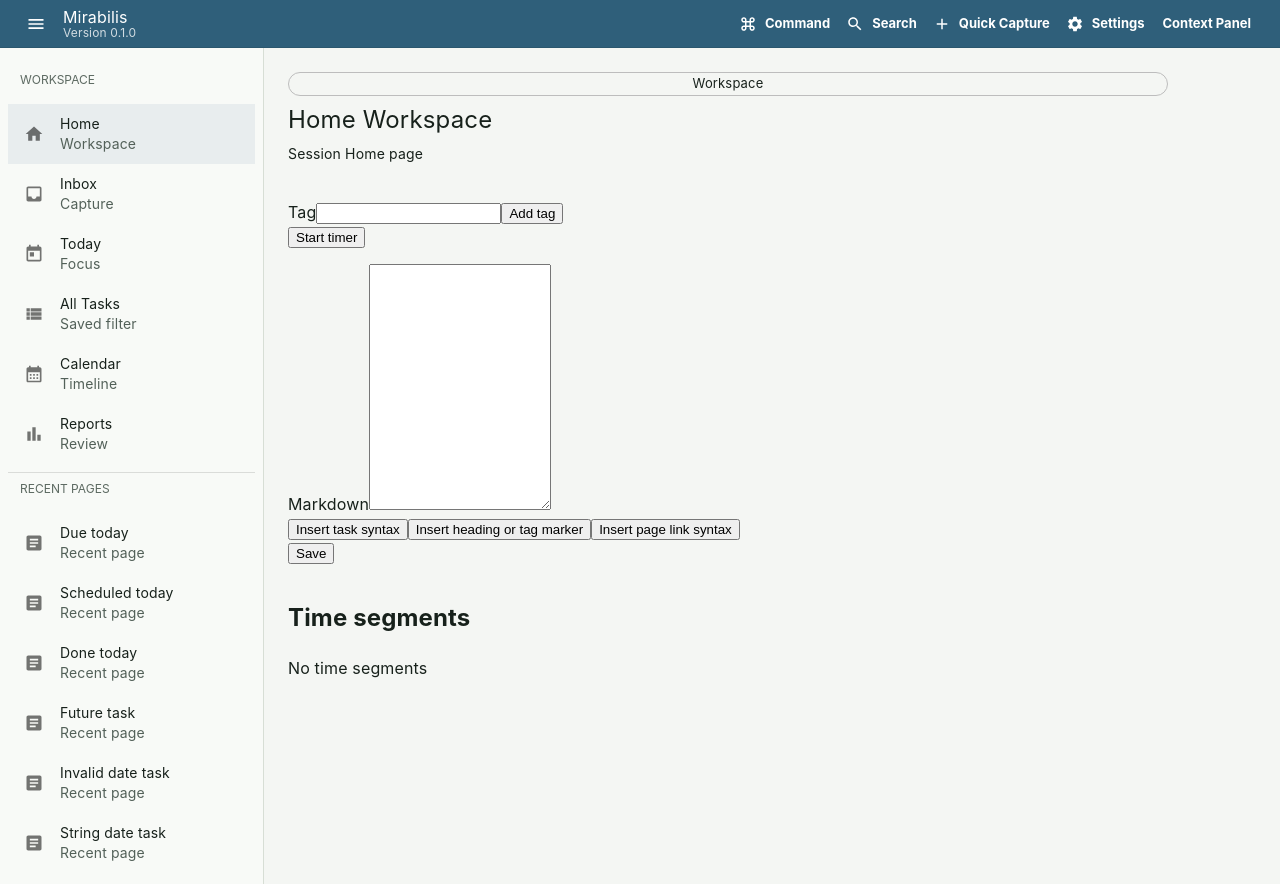
Test: TASK-038 sidebar page and saved-filter navigation › routes Today using the deterministic current date and only unfinished due or scheduled task pages
The width and height of the screenshot is (1280, 884).
Click the button "Today Focus". click: (63, 254)
box: [24, 235, 101, 272]
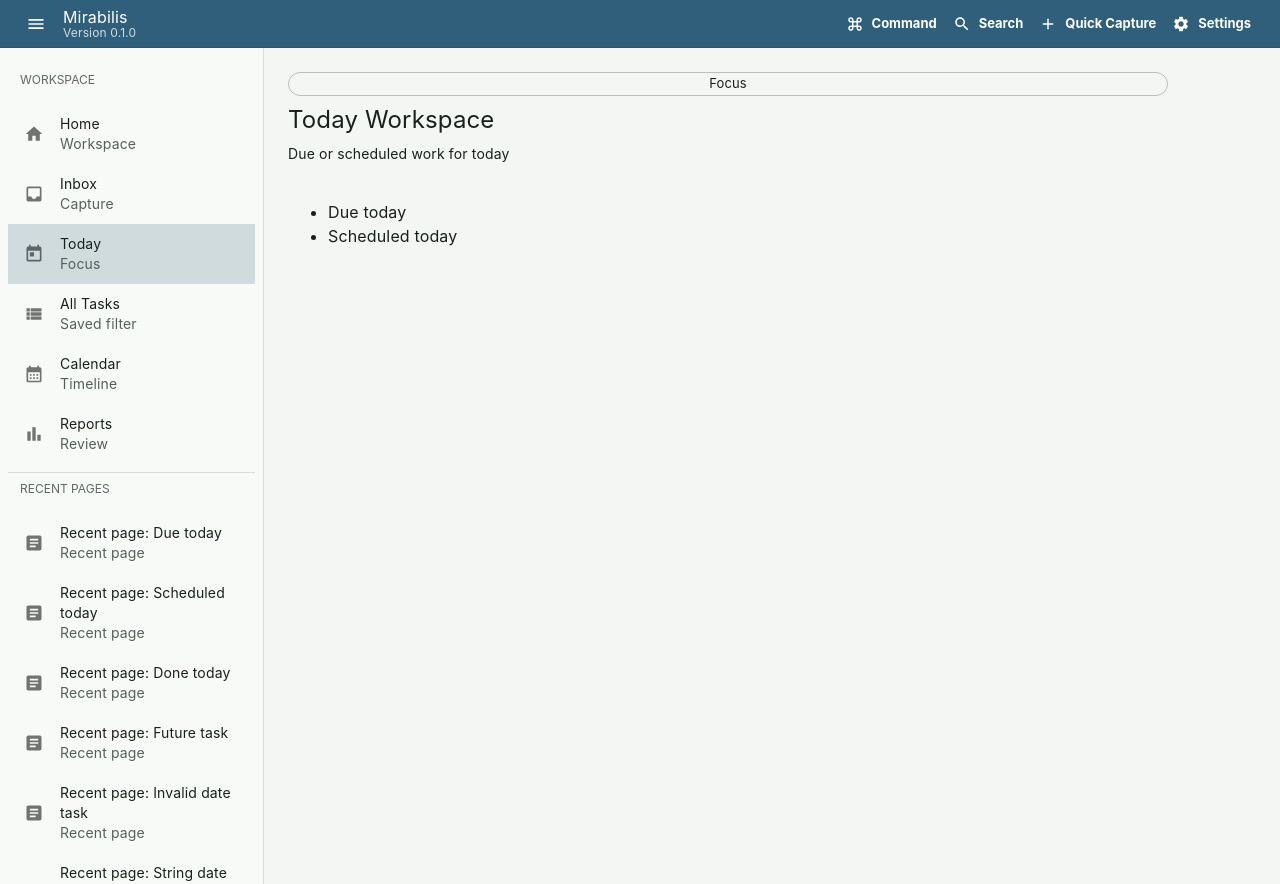
Expected: the list item "Due today" is shown, [328, 202, 406, 222]
Expected: the list item "Scheduled today" is shown, [328, 226, 457, 246]
